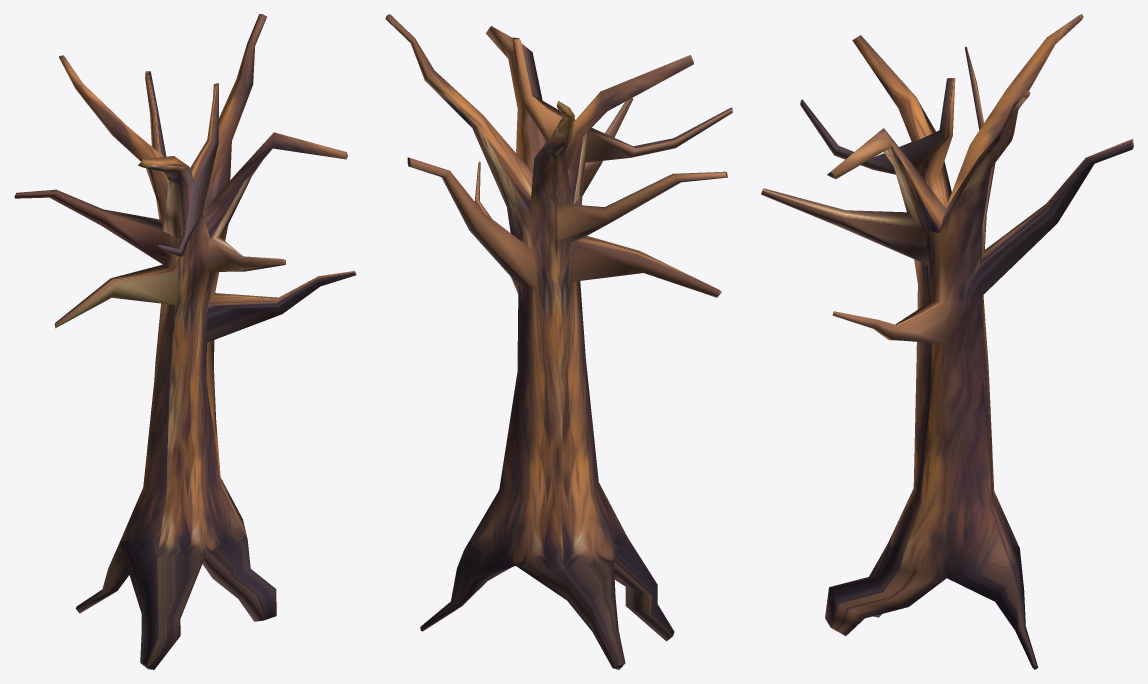
The model's file is tree_trunkpart.glb.
3 renders of one model, left to right at view 1: azimuth 30°, elevation 25°; view 2: azimuth 150°, elevation 25°; view 3: azimuth 270°, elevation 25°, orthographic. The views are drawn at different scales.
Visible parts, largest first — view 1: Better_tree.002; view 2: Better_tree.002; view 3: Better_tree.002.
Boxes of the visible parts, x1,y1,x2,y2 form: Better_tree.002: (14, 14, 356, 669); Better_tree.002: (385, 14, 732, 669); Better_tree.002: (761, 14, 1133, 669).
Bounding box in the file's own units: 8.6 × 16.41 × 8.88.
Materials: 1 (1 with a texture image).
